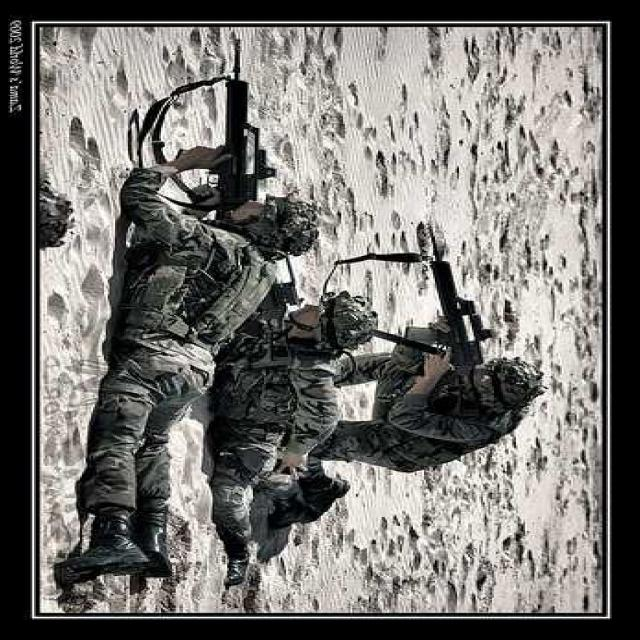heavyweapon: (154, 39, 286, 261), (393, 201, 494, 435)
